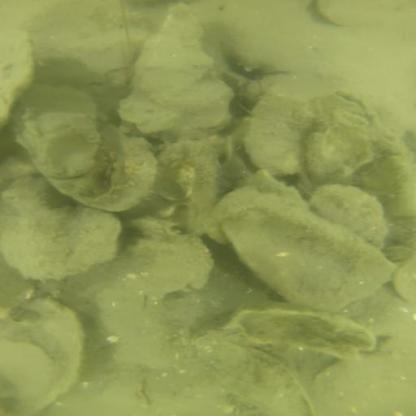Oyster-Closed: (230, 202, 393, 312), (116, 4, 231, 136), (55, 218, 218, 297), (0, 179, 122, 280), (49, 125, 158, 213), (124, 143, 224, 236), (14, 89, 102, 179), (315, 183, 391, 251), (250, 93, 309, 177)
Oyster-Open: (194, 311, 370, 355)
